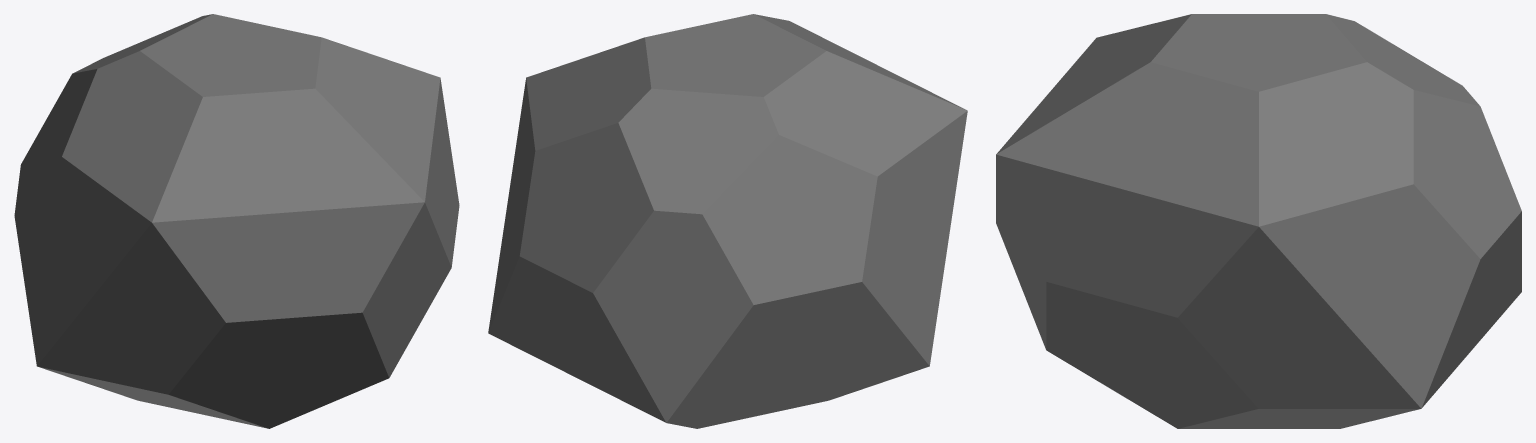
Rendered from small rock 2.fbx.
The picture shows the model from 3 angles, left to right: view 1: azimuth 30°, elevation 25°; view 2: azimuth 150°, elevation 25°; view 3: azimuth 270°, elevation 25°; orthographic projection. The views are drawn at different scales.
Parts seen in each view (by area): view 1: Icosphere.002; view 2: Icosphere.002; view 3: Icosphere.002.
Part boxes in pixels (<box>): Icosphere.002: <box>14,14,459,428</box>; Icosphere.002: <box>488,14,967,428</box>; Icosphere.002: <box>996,14,1521,428</box>.
Size of the model in its own units: 0.6812 by 0.5135 by 0.7243.
